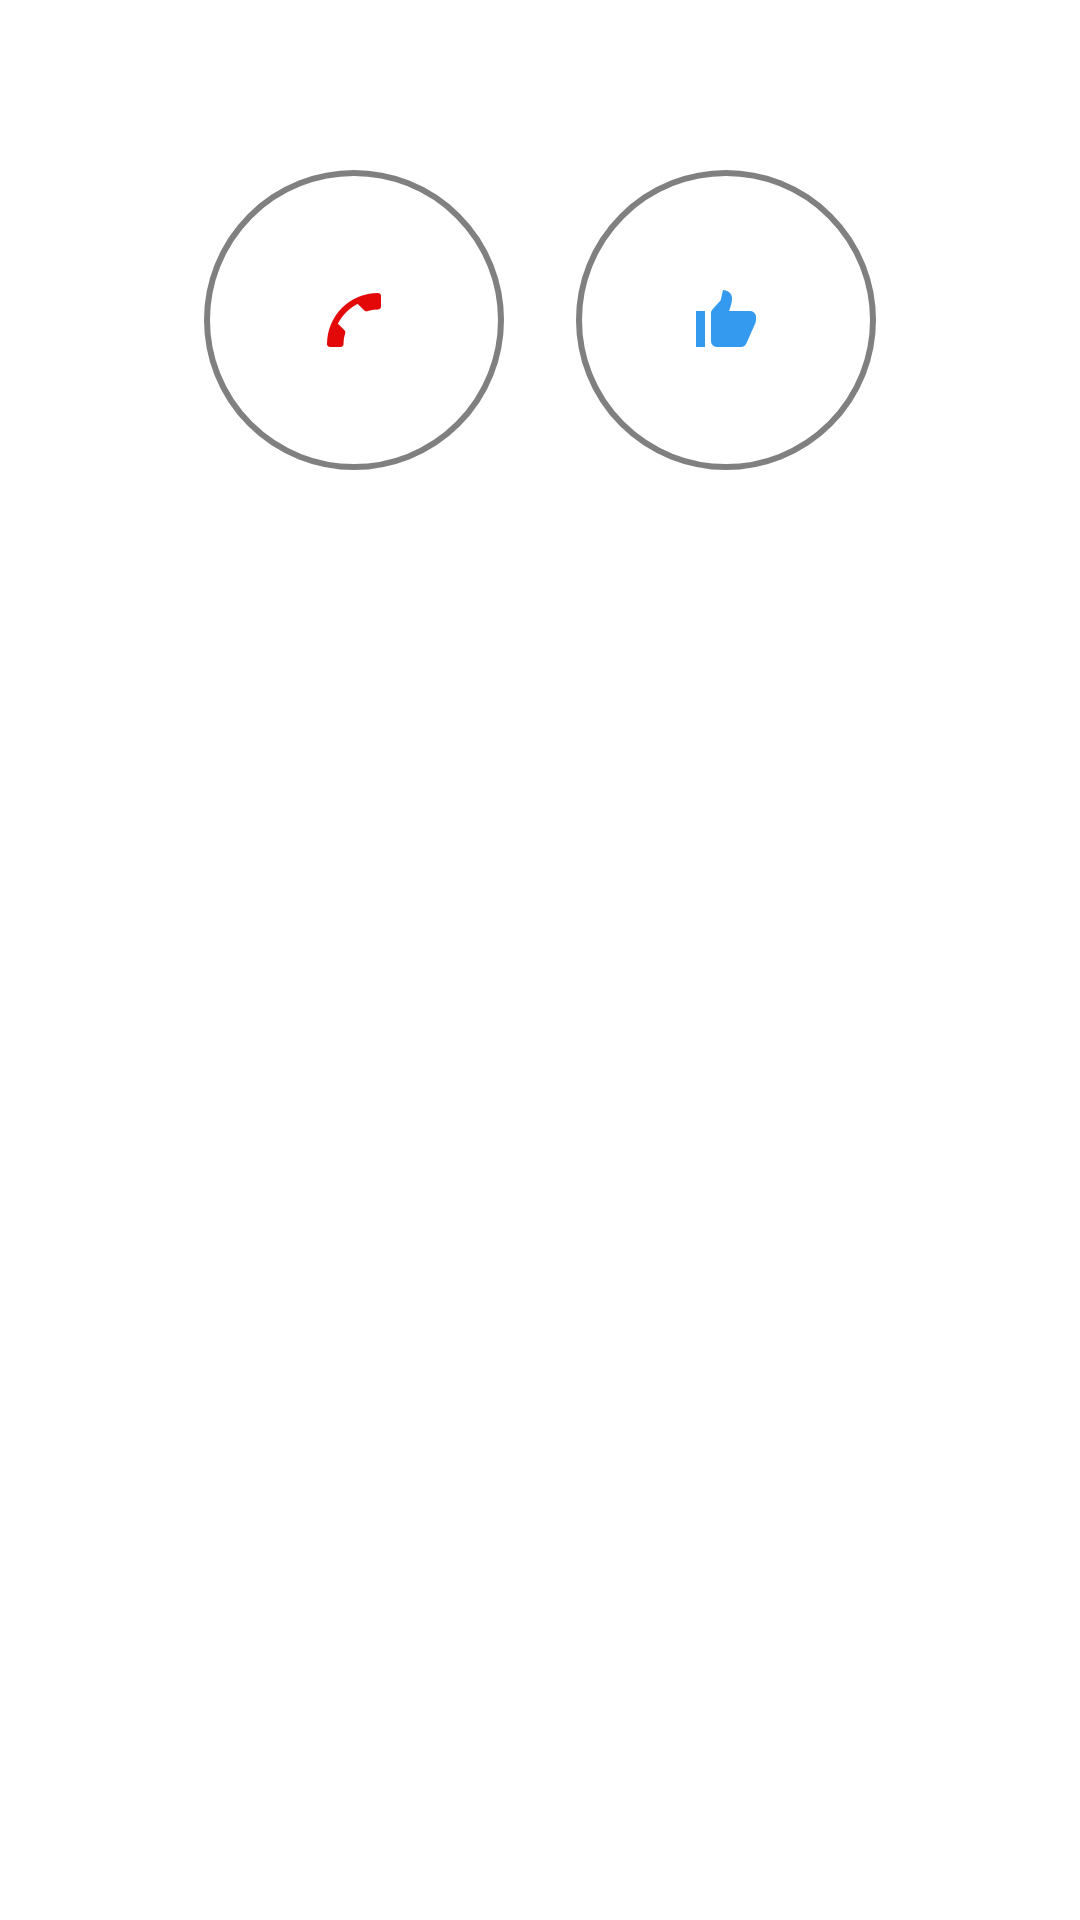

Locate icon controls on the screen. Image size 1080*1920, boxes as (x1, y1, x2, y2).
call: (204, 170, 504, 470)
like: (576, 170, 876, 470)
